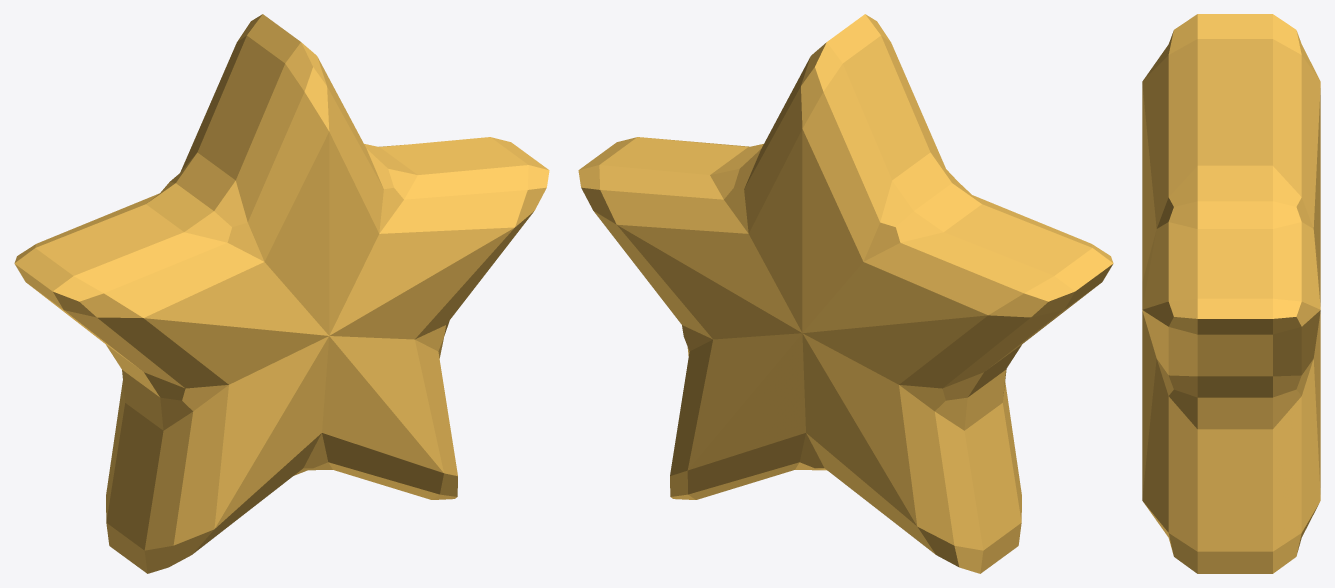
File: star.gltf
The picture shows the model from 3 angles, left to right: view 1: azimuth 30°, elevation 25°; view 2: azimuth 150°, elevation 25°; view 3: azimuth 270°, elevation 25°; orthographic projection.
Visible parts, largest first — view 1: Star; view 2: Star; view 3: Star.
Boxes of the visible parts, <box> form: Star: <box>14,14,549,573</box>; Star: <box>578,14,1113,573</box>; Star: <box>1142,14,1320,573</box>.
Size of the model in its own units: 1.8 by 1.71 by 0.5685.
